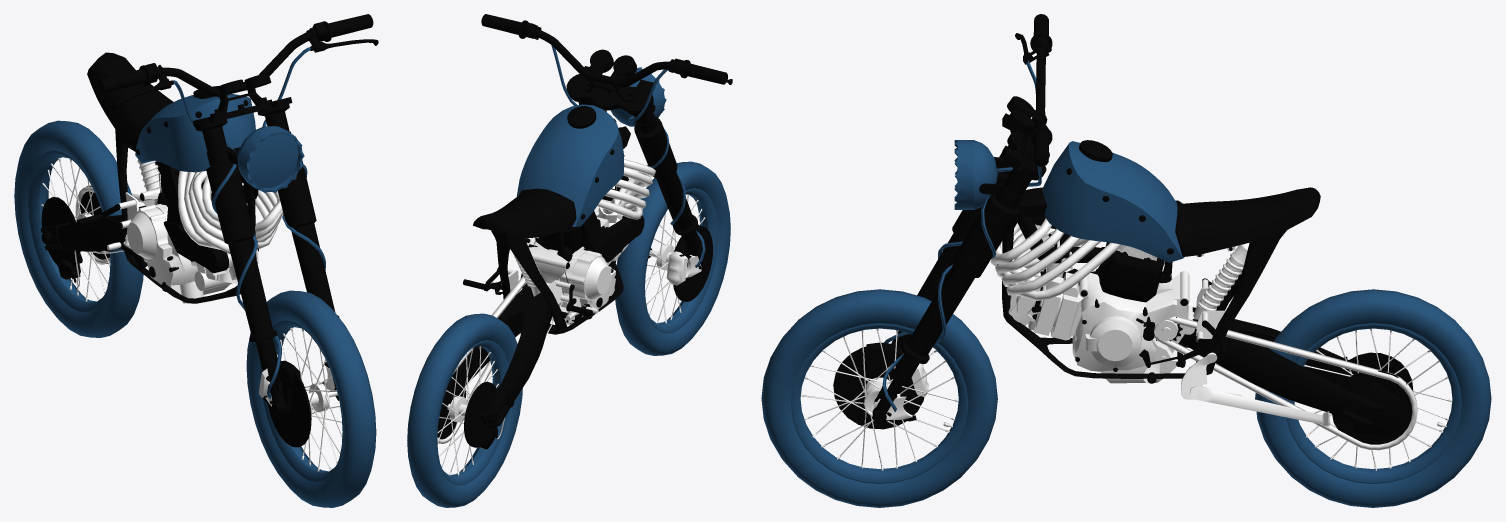
File: SK_RSG_Bike.fbx
3 renders of one model, left to right at view 1: azimuth 30°, elevation 25°; view 2: azimuth 150°, elevation 25°; view 3: azimuth 270°, elevation 25°, orthographic. The views are drawn at different scales.
Parts seen in each view (by area): view 1: SK_rsg_LastGuns_bike_01, SK_rsg_LastGuns_bike_Front_Wheel, SK_rsg_LastGuns_bike_Back_Wheel, SK_rsg_LastGuns_depreciation_01, SK_rsg_LastGuns_rudder_01; view 2: SK_rsg_LastGuns_bike_01, SK_rsg_LastGuns_bike_Back_Wheel, SK_rsg_LastGuns_bike_Front_Wheel, SK_rsg_LastGuns_depreciation_01, SK_rsg_LastGuns_rudder_01; view 3: SK_rsg_LastGuns_bike_01, SK_rsg_LastGuns_bike_Front_Wheel, SK_rsg_LastGuns_bike_Back_Wheel, SK_rsg_LastGuns_depreciation_01, SK_rsg_LastGuns_rudder_01.
Part boxes in pixels (x1,y1,x2,y2): SK_rsg_LastGuns_bike_01: (76,14,378,398); SK_rsg_LastGuns_bike_Front_Wheel: (246,290,376,507); SK_rsg_LastGuns_bike_Back_Wheel: (14,120,143,337); SK_rsg_LastGuns_depreciation_01: (40,185,145,287); SK_rsg_LastGuns_rudder_01: (258,360,339,415); SK_rsg_LastGuns_bike_01: (463,14,732,334); SK_rsg_LastGuns_bike_Back_Wheel: (407,313,522,507); SK_rsg_LastGuns_bike_Front_Wheel: (615,161,730,355); SK_rsg_LastGuns_depreciation_01: (437,276,566,449); SK_rsg_LastGuns_rudder_01: (647,225,708,285); SK_rsg_LastGuns_bike_01: (882,14,1329,426); SK_rsg_LastGuns_bike_Front_Wheel: (761,289,997,507); SK_rsg_LastGuns_bike_Back_Wheel: (1255,289,1491,507); SK_rsg_LastGuns_depreciation_01: (1154,307,1417,450); SK_rsg_LastGuns_rudder_01: (865,342,928,425).
Size of the model in its own units: 1.23 by 1.74 by 2.7.
